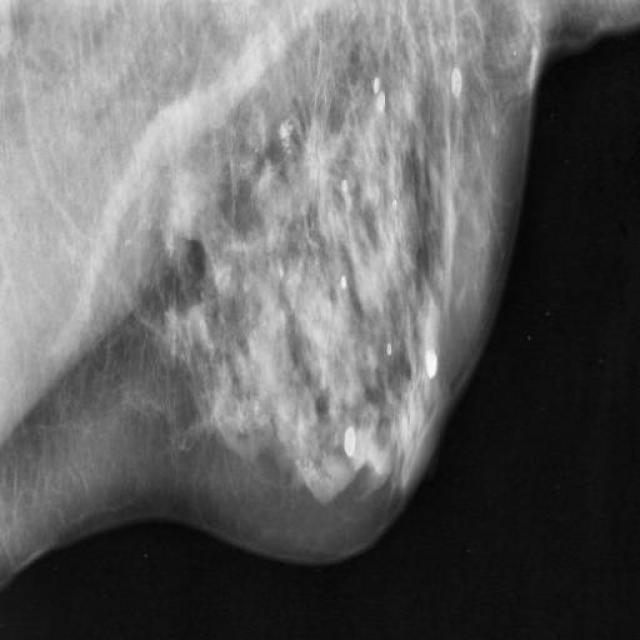cancer: (300, 104, 344, 220)
